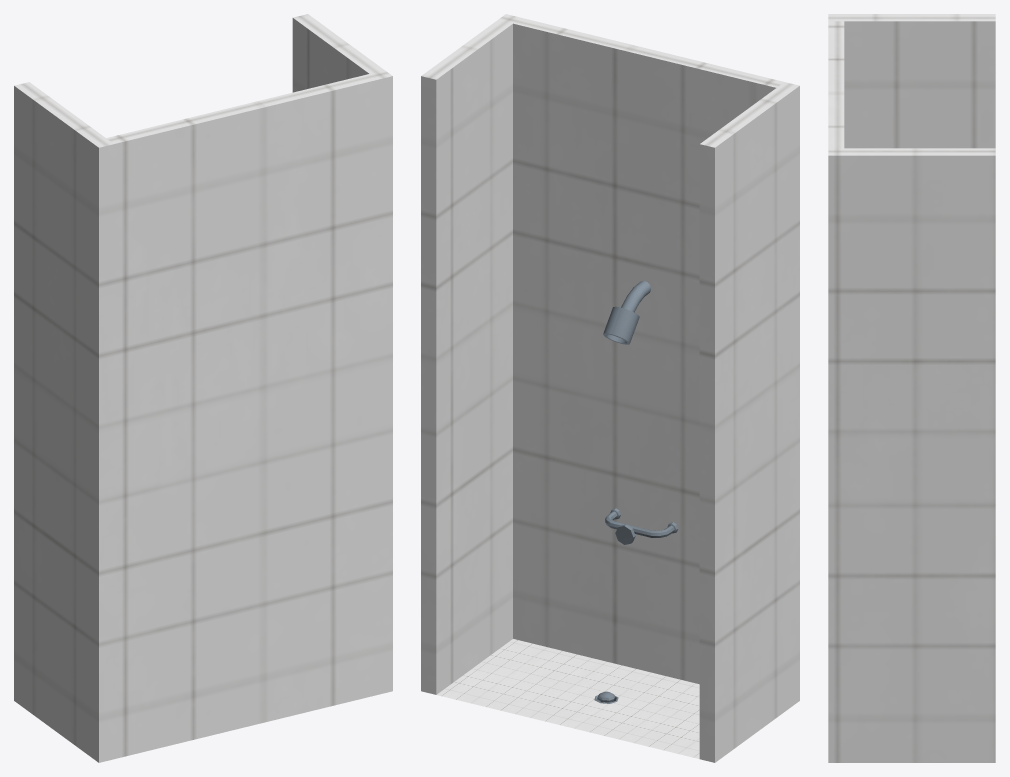
The model's file is shower_booth.fbx.
The picture shows the model from 3 angles, left to right: view 1: azimuth 30°, elevation 25°; view 2: azimuth 150°, elevation 25°; view 3: azimuth 270°, elevation 25°; orthographic projection.
Parts seen in each view (by area): view 1: shower_booth; view 2: shower_booth; view 3: shower_booth.
Boxes of the visible parts, left/top/right/bottom form: shower_booth: left=14, top=14, right=392, bottom=762; shower_booth: left=421, top=14, right=799, bottom=762; shower_booth: left=828, top=14, right=995, bottom=762.
Bounding box in the file's own units: 200 × 405 × 100.
1 material, 1 textured.
